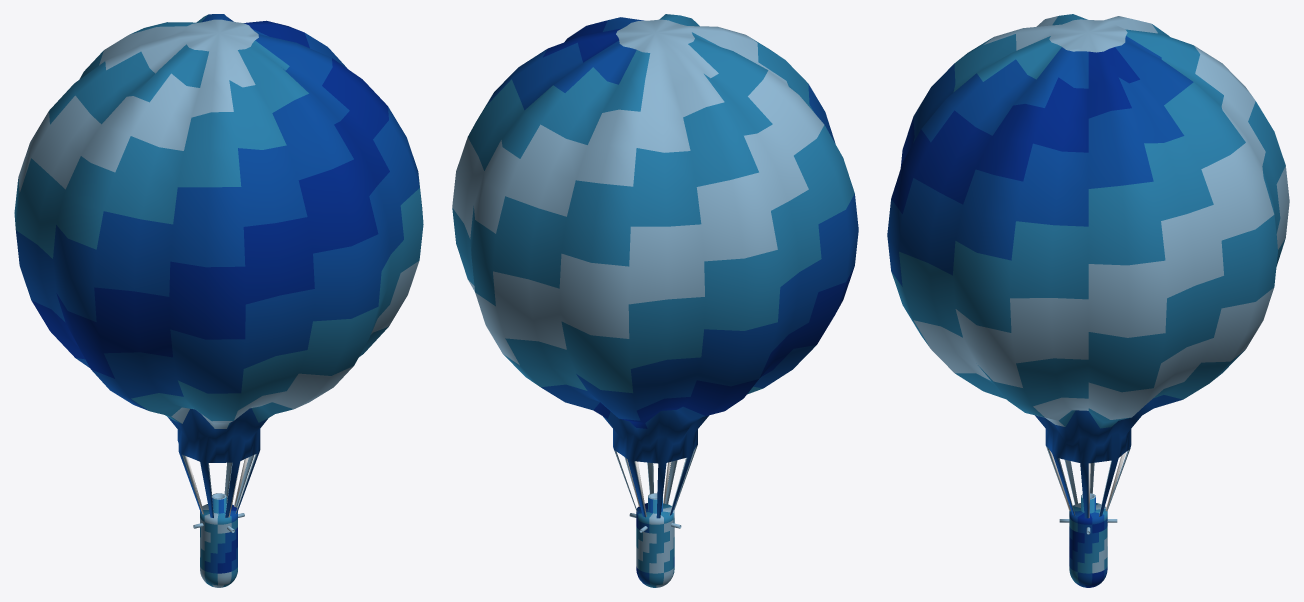
The model's file is baloon.glb.
3 renders of one model, left to right at view 1: azimuth 30°, elevation 25°; view 2: azimuth 150°, elevation 25°; view 3: azimuth 270°, elevation 25°, orthographic.
Visible parts, largest first — view 1: Envelope, Sphere; view 2: Envelope, Sphere; view 3: Envelope, Sphere.
Part boxes in pixels (x1,y1,x2,y2): Envelope: (14,14,423,517); Sphere: (200,493,237,573); Envelope: (452,14,858,518); Sphere: (636,493,674,573); Envelope: (887,14,1289,518); Sphere: (1069,493,1107,573).
Bounding box in the file's own units: 20.97 × 31.84 × 20.97.
